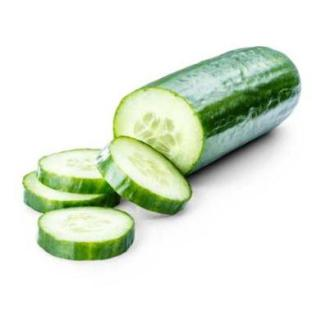Cucumber: (115, 47, 300, 174), (98, 137, 191, 214), (38, 207, 134, 260), (23, 172, 119, 212), (38, 149, 113, 193)
